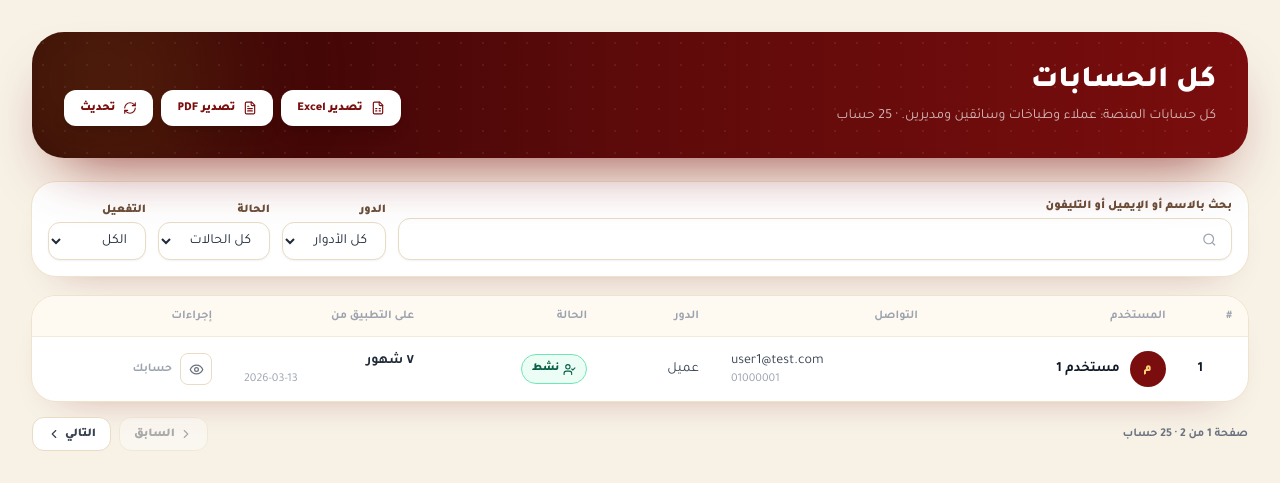
it: Users Management (provisional /admin/users*) › role and status filters go into the query and reset to page 1
Expected: the button "م مستخدم 1" is shown, [1057, 351, 1166, 387]
Select "سائق" in the dropdown labelled "الدور" at point(334, 241), box [282, 222, 386, 260]
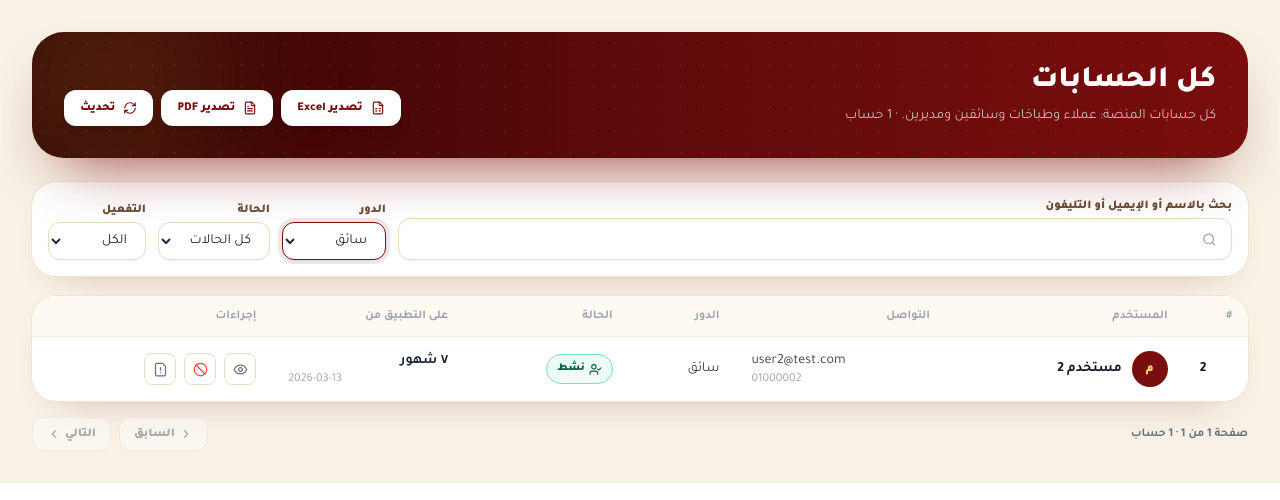
Result: the button "م مستخدم 2" is shown at [1057, 351, 1168, 387]
Select "موقوف" in the dropdown labelled "الحالة" at point(214, 241), box [158, 222, 270, 260]
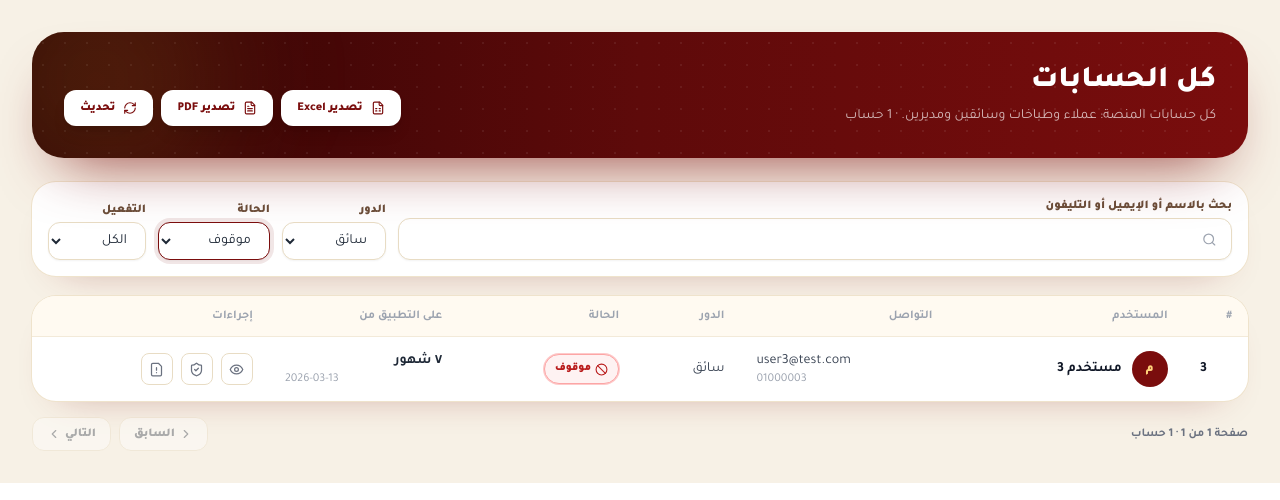
Result: the button "م مستخدم 3" is shown at [1057, 351, 1168, 387]
